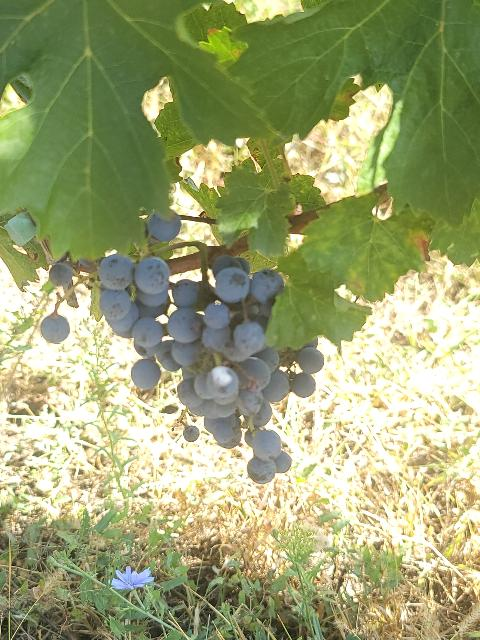grapes: (99, 255, 322, 482)
